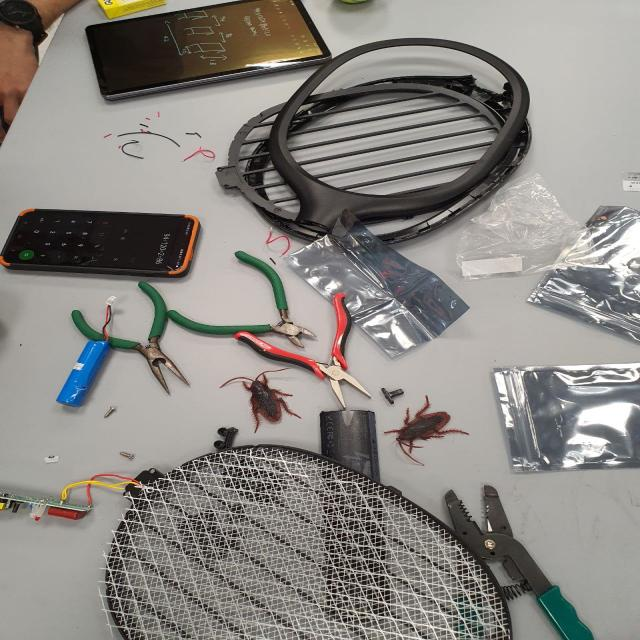Cockroach: (214, 356, 313, 442), (378, 388, 476, 466)
